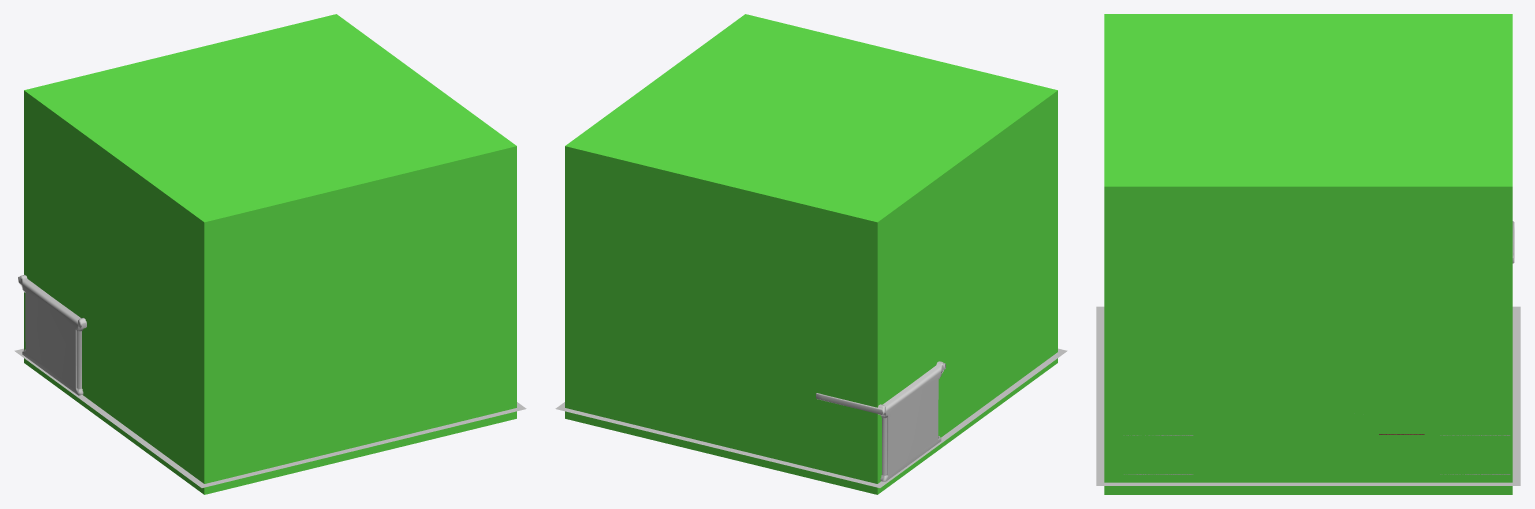
The model's file is DetectiveRoomSceneLQ.fbx.
3 views of the same model, side by side, from view 1: azimuth 30°, elevation 25°; view 2: azimuth 150°, elevation 25°; view 3: azimuth 270°, elevation 25° (orthographic). The views are drawn at different scales.
Visible parts, largest first — view 1: Room, Fireplace, Floor; view 2: Room, Fireplace, Floor; view 3: Room, Floor.
Part boxes in pixels (x1,y1,x2,y2): Room: [24, 14, 516, 494]; Fireplace: [18, 274, 86, 395]; Floor: [14, 348, 526, 487]; Room: [565, 14, 1057, 494]; Fireplace: [816, 361, 945, 481]; Floor: [555, 348, 1067, 487]; Room: [1104, 14, 1512, 494]; Floor: [1096, 306, 1520, 485].
Size of the model in its own units: 520 by 417 by 520.
